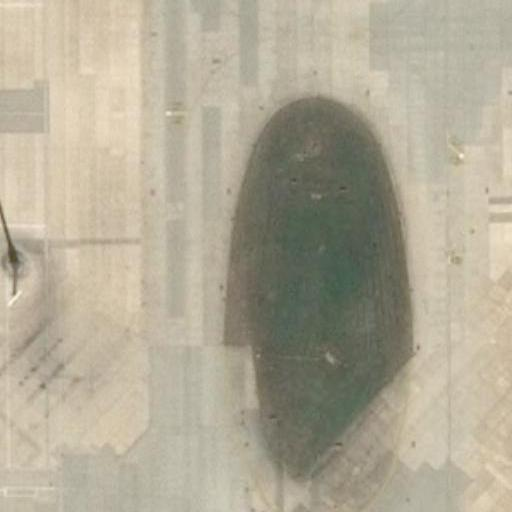Aircraft: (0, 506, 46, 512)
